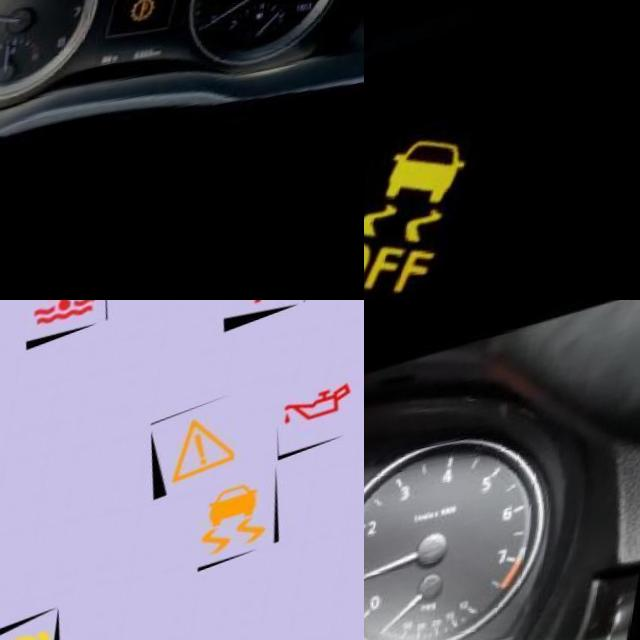Engine cooling system: (22, 57, 29, 66)
Low fuel level: (269, 34, 276, 41)
